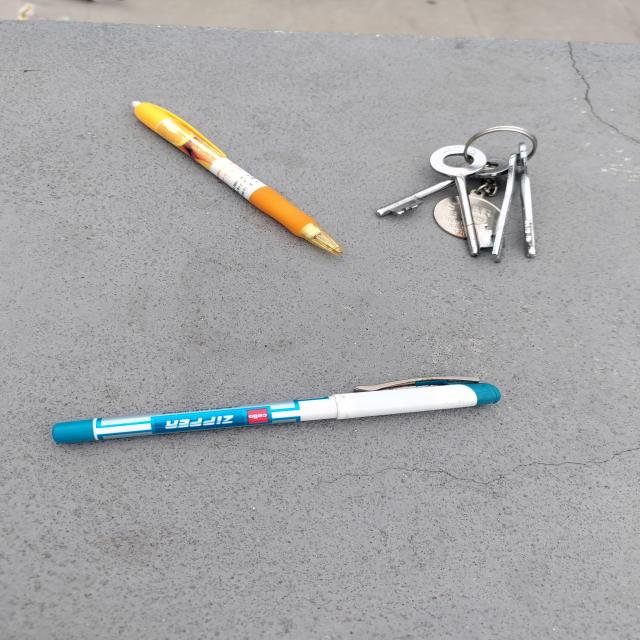metal: (380, 123, 540, 266)
plastic: (49, 372, 502, 447), (132, 98, 342, 258)
